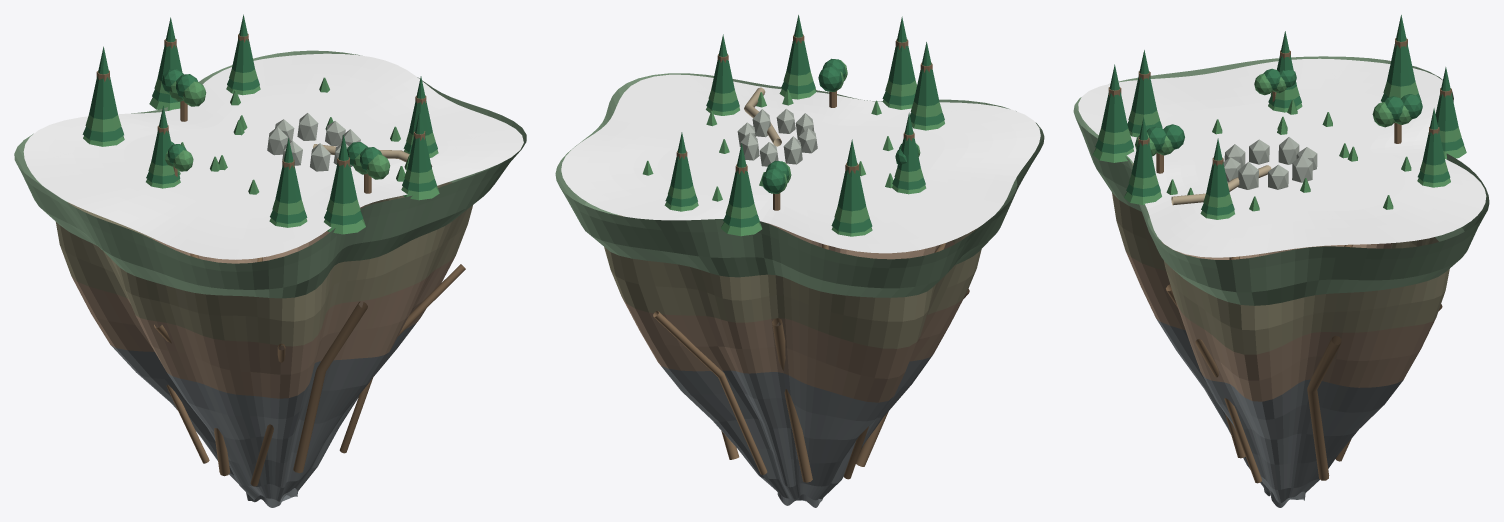
Rendered from FI-015-Elderwood-Split.glb.
3 renders of one model, left to right at view 1: azimuth 30°, elevation 25°; view 2: azimuth 150°, elevation 25°; view 3: azimuth 270°, elevation 25°, orthographic.
Visible parts, largest first — view 1: FI-015_StratifiedFloatingCliff, FI-015_BuildableTop, FI-015_HangingRoot_04, FI-015_HangingRoot_05, Whisperpine_03_Bough_03, Whisperpine_00_Bough_03, Whisperpine_02_Bough_03, Whisperpine_01_Bough_03, Whisperpine_05_Bough_03, Whisperpine_04_Bough_03, FI-015_HangingRoot_03, FI-015_HangingRoot_01 (+3 smaller); view 2: FI-015_StratifiedFloatingCliff, FI-015_BuildableTop, FI-015_HangingRoot_07, FI-015_HangingRoot_00, Whisperpine_03_Bough_03, Whisperpine_00_Bough_03, Whisperpine_04_Bough_03, Whisperpine_02_Bough_03, Whisperpine_01_Bough_03, Whisperpine_06_Bough_03, Whisperpine_05_Bough_03, Whisperpine_07_Bough_03; view 3: FI-015_StratifiedFloatingCliff, FI-015_BuildableTop, FI-015_HangingRoot_06, Whisperpine_03_Bough_03, FI-015_HangingRoot_05, Whisperpine_00_Bough_03, Whisperpine_02_Bough_03, Whisperpine_04_Bough_03, Whisperpine_01_Bough_03, Whisperpine_06_Bough_03, Whisperpine_05_Bough_03, ForestPath (+2 smaller).
Part boxes in pixels (bbox=[...]): FI-015_StratifiedFloatingCliff: bbox=[14, 50, 526, 507]; FI-015_BuildableTop: bbox=[23, 53, 523, 259]; FI-015_HangingRoot_04: bbox=[293, 301, 367, 473]; FI-015_HangingRoot_05: bbox=[339, 264, 465, 453]; Whisperpine_03_Bough_03: bbox=[89, 46, 117, 119]; Whisperpine_00_Bough_03: bbox=[330, 134, 357, 203]; Whisperpine_02_Bough_03: bbox=[275, 138, 301, 203]; Whisperpine_01_Bough_03: bbox=[407, 111, 431, 172]; Whisperpine_05_Bough_03: bbox=[232, 14, 254, 72]; Whisperpine_04_Bough_03: bbox=[157, 17, 182, 81]; FI-015_HangingRoot_03: bbox=[250, 343, 285, 486]; FI-015_HangingRoot_01: bbox=[166, 385, 209, 463]; FI-015_StratifiedFloatingCliff: bbox=[555, 73, 1044, 507]; FI-015_BuildableTop: bbox=[561, 74, 1040, 253]; FI-015_HangingRoot_07: bbox=[653, 311, 767, 474]; FI-015_HangingRoot_00: bbox=[772, 318, 812, 482]; Whisperpine_03_Bough_03: bbox=[837, 139, 866, 211]; Whisperpine_00_Bough_03: bbox=[888, 16, 915, 84]; Whisperpine_04_Bough_03: bbox=[729, 143, 754, 207]; Whisperpine_02_Bough_03: bbox=[913, 42, 939, 106]; Whisperpine_01_Bough_03: bbox=[786, 15, 810, 75]; Whisperpine_06_Bough_03: bbox=[711, 34, 734, 93]; Whisperpine_05_Bough_03: bbox=[670, 132, 693, 189]; Whisperpine_07_Bough_03: bbox=[897, 112, 920, 171]; FI-015_StratifiedFloatingCliff: bbox=[1073, 56, 1489, 507]; FI-015_BuildableTop: bbox=[1078, 58, 1486, 257]; FI-015_HangingRoot_06: bbox=[1307, 336, 1341, 480]; Whisperpine_03_Bough_03: bbox=[1387, 15, 1415, 86]; FI-015_HangingRoot_05: bbox=[1195, 339, 1261, 483]; Whisperpine_00_Bough_03: bbox=[1101, 64, 1128, 132]; Whisperpine_02_Bough_03: bbox=[1131, 50, 1156, 114]; Whisperpine_04_Bough_03: bbox=[1435, 67, 1458, 131]; Whisperpine_01_Bough_03: bbox=[1131, 117, 1155, 178]; Whisperpine_06_Bough_03: bbox=[1206, 138, 1229, 197]; Whisperpine_05_Bough_03: bbox=[1422, 108, 1445, 165]; ForestPath: bbox=[1171, 165, 1271, 205].
Size of the model in its own units: 12.53 by 12.45 by 10.89.
